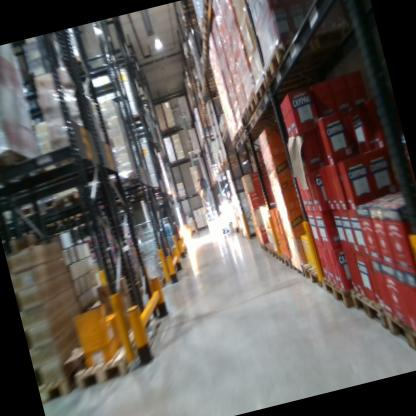pallet: (255, 13, 367, 85), (66, 320, 154, 399), (346, 273, 402, 333), (243, 75, 314, 121), (248, 62, 309, 111), (383, 301, 416, 373), (36, 361, 88, 404), (51, 182, 95, 228), (317, 267, 358, 316), (301, 254, 338, 293), (279, 249, 298, 273), (292, 255, 308, 278), (262, 238, 280, 257), (239, 108, 253, 131), (274, 247, 285, 263)
